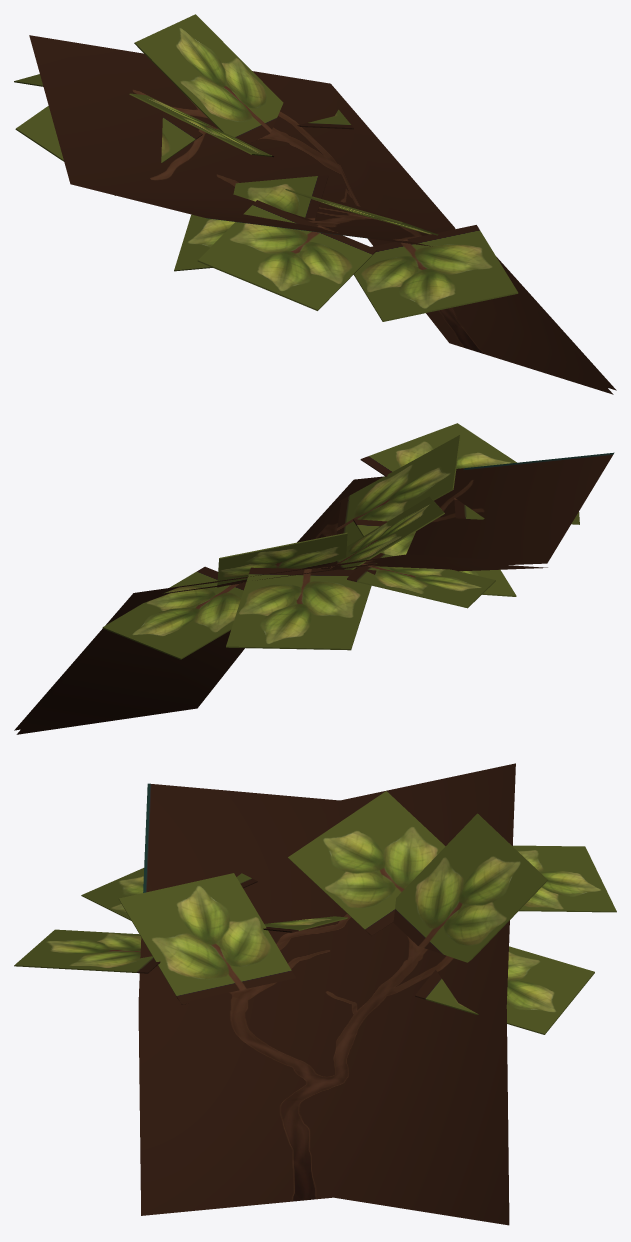
File: bush_01c.fbx
3 views of the same model, one above another, from view 1: azimuth 30°, elevation 25°; view 2: azimuth 150°, elevation 25°; view 3: azimuth 270°, elevation 25° (orthographic). The views are drawn at different scales.
Visible parts, largest first — view 1: bush_01c; view 2: bush_01c; view 3: bush_01c.
Part boxes in pixels (x1=…): bush_01c: x1=14, y1=14, x2=616, y2=394; bush_01c: x1=14, y1=423, x2=614, y2=734; bush_01c: x1=14, y1=763, x2=616, y2=1225.
Bounding box in the file's own units: 5.79 × 3.64 × 6.83.
